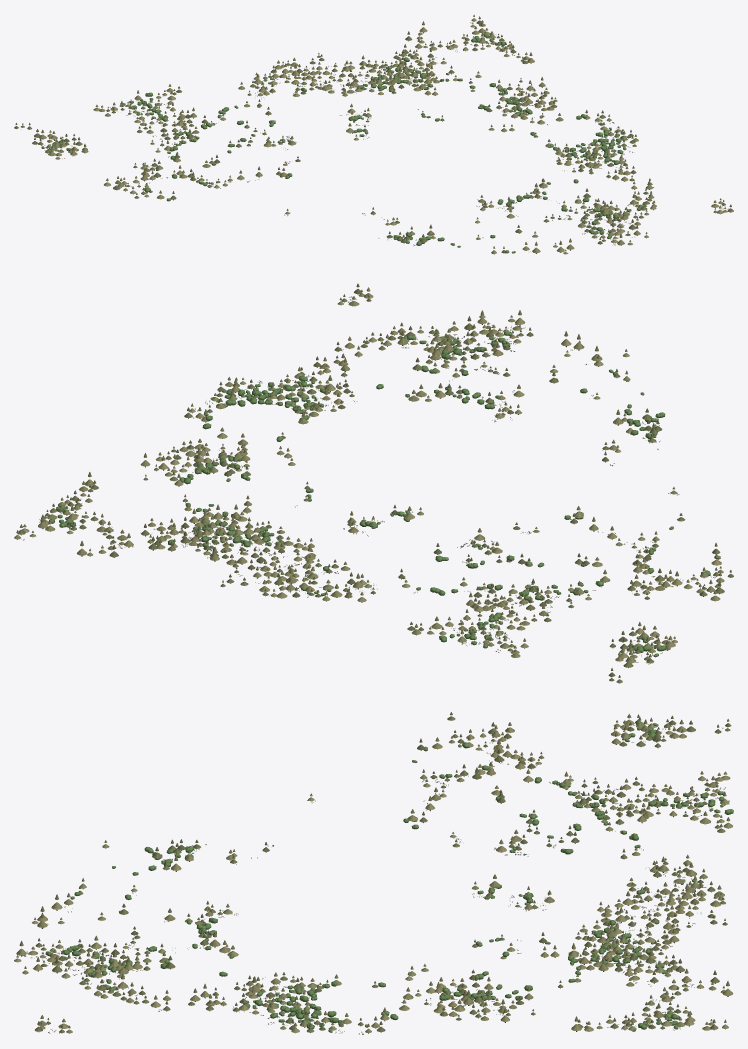
Rendered from Foliage_P2.fbx.
The picture shows the model from 3 angles, top to bottom: view 1: azimuth 30°, elevation 25°; view 2: azimuth 150°, elevation 25°; view 3: azimuth 270°, elevation 25°; orthographic projection. The views are drawn at different scales.
Size of the model in its own units: 61374 by 5815 by 61448.
